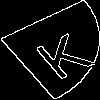K: (25, 25, 96, 82)
